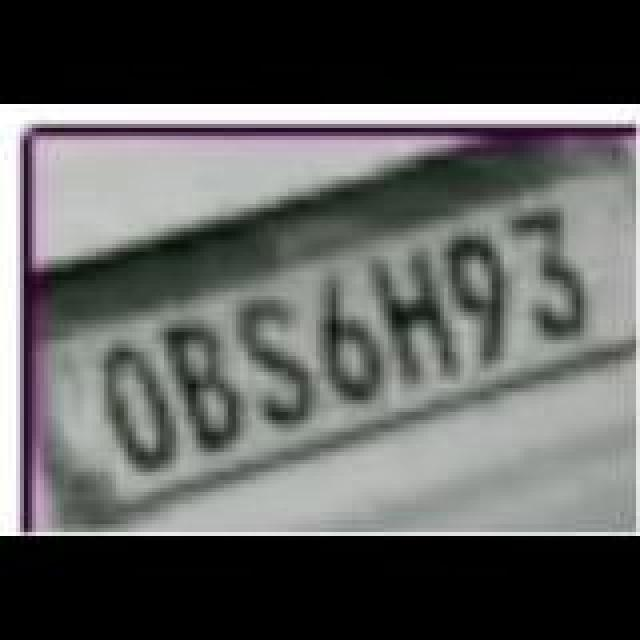3: (512, 214, 592, 346)
6: (316, 284, 388, 404)
9: (448, 236, 520, 364)
B: (166, 322, 250, 454)
H: (372, 254, 460, 386)
O: (104, 342, 184, 474)
S: (240, 304, 320, 432)
